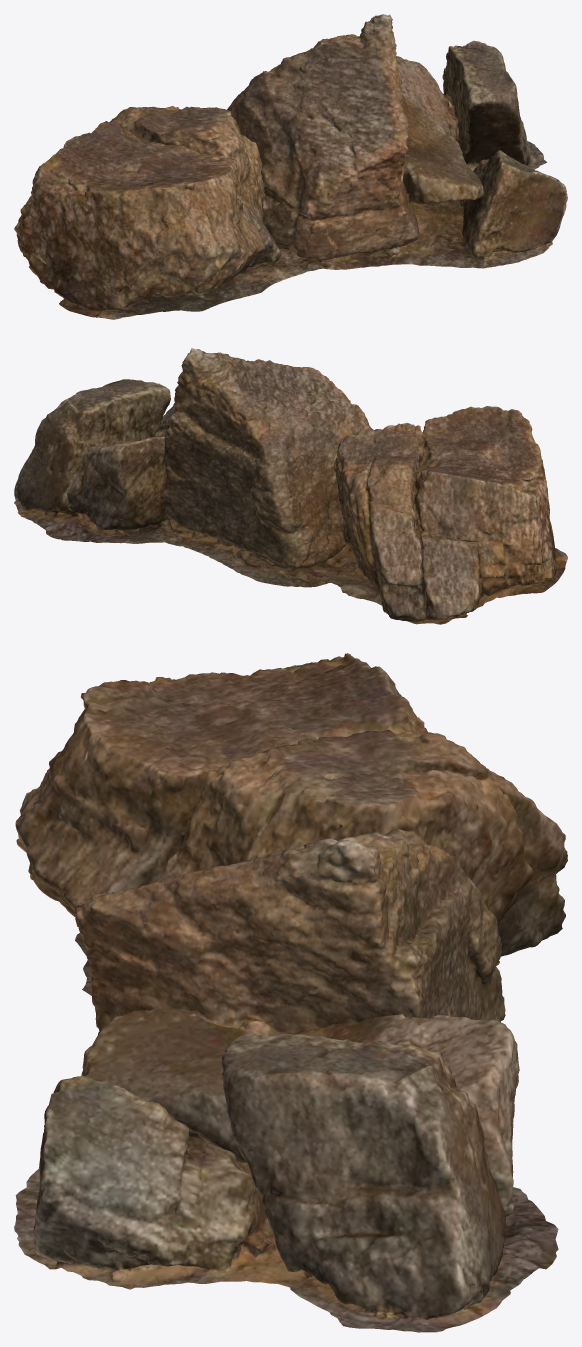
The model's file is boulder_medium_a_low.glb.
The picture shows the model from 3 angles, top to bottom: view 1: azimuth 30°, elevation 25°; view 2: azimuth 150°, elevation 25°; view 3: azimuth 270°, elevation 25°; orthographic projection. The views are drawn at different scales.
Parts seen in each view (by area): view 1: boulder_02; view 2: boulder_02; view 3: boulder_02.
Boxes of the visible parts, x1,y1,x2,y2 form: boulder_02: (14, 14, 567, 319); boulder_02: (14, 348, 567, 624); boulder_02: (14, 653, 567, 1332).
Bounding box in the file's own units: 2.53 × 0.8826 × 1.23.
1 material, 1 textured.
